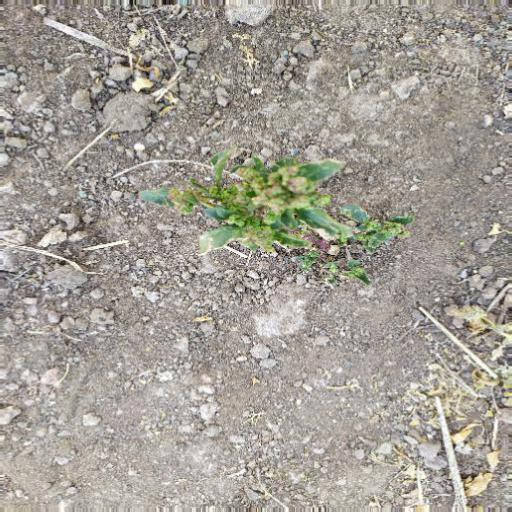weed: (146, 127, 406, 302)
